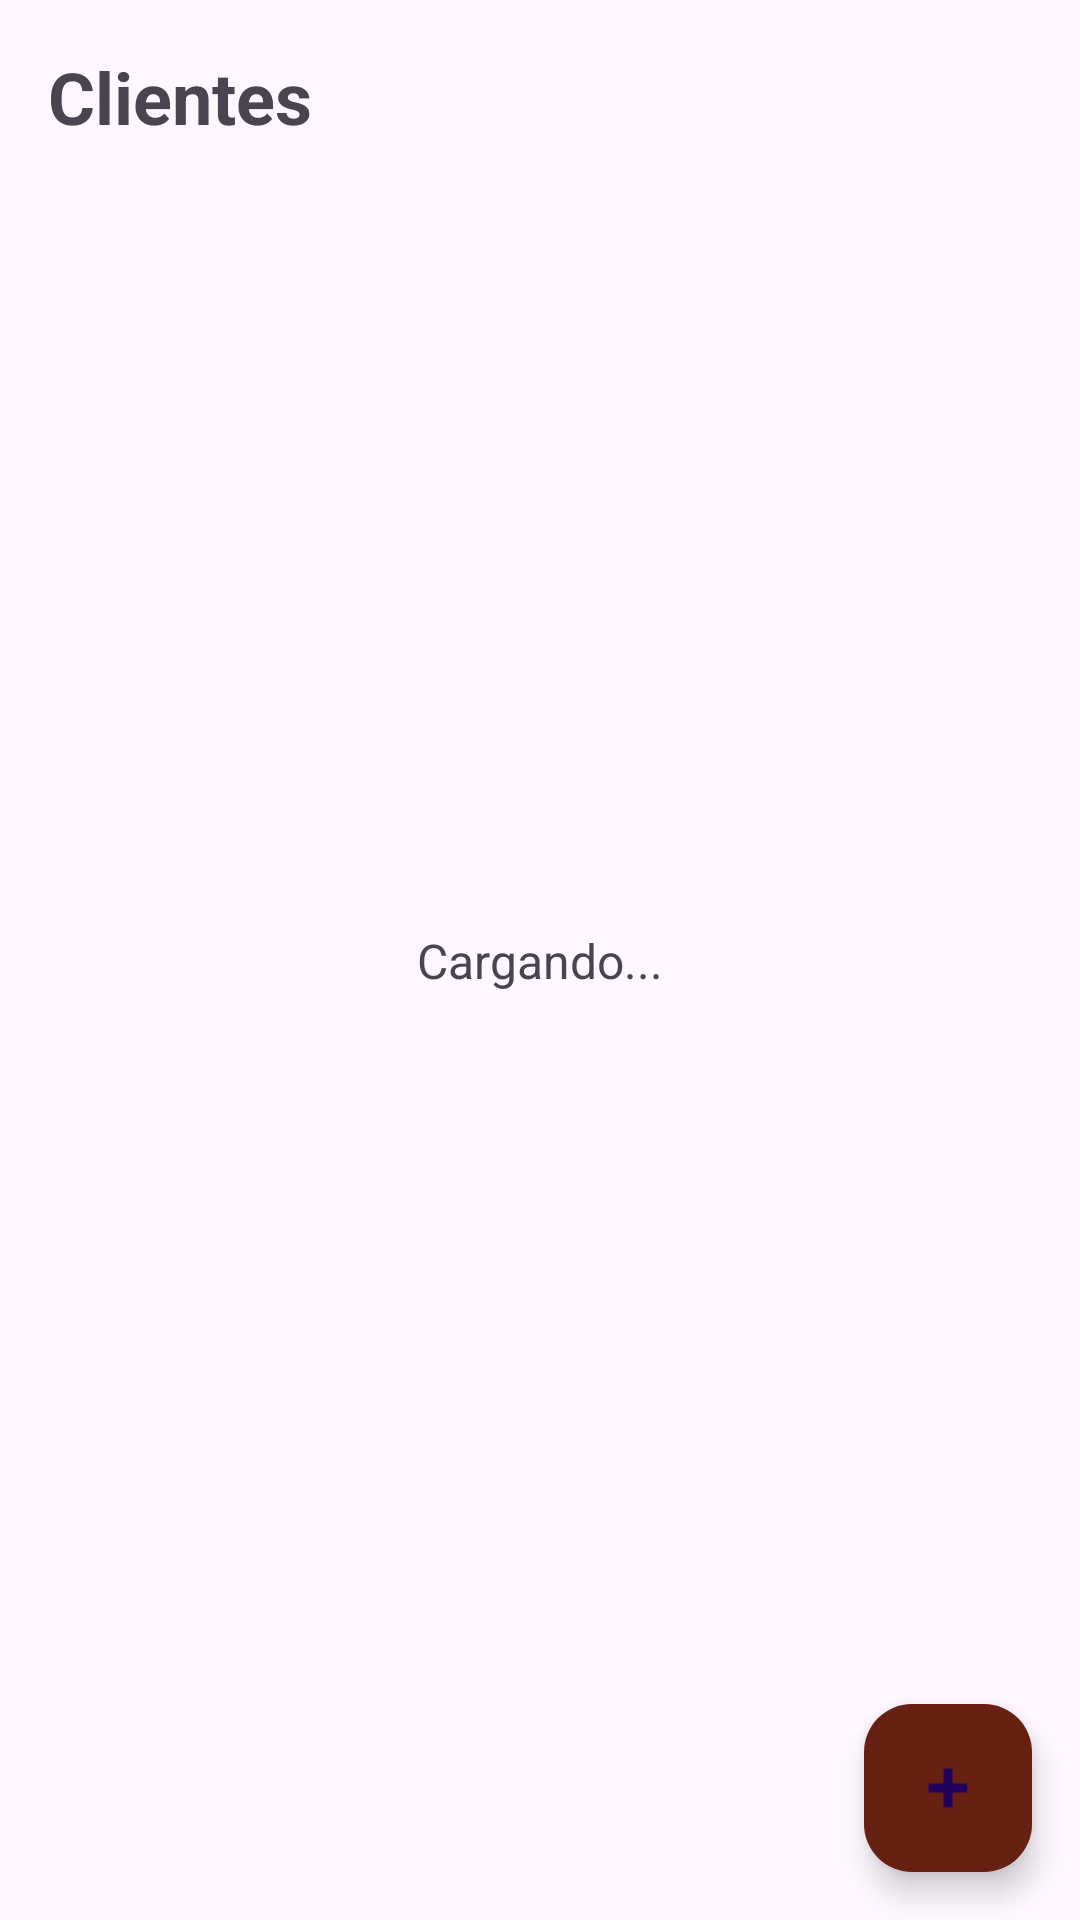

Locate icon controls on the screen. Image size 1080w x 1920h, boxes as (x1, y1, x2, y2).
Agregar cliente: (864, 1704, 1032, 1872)
